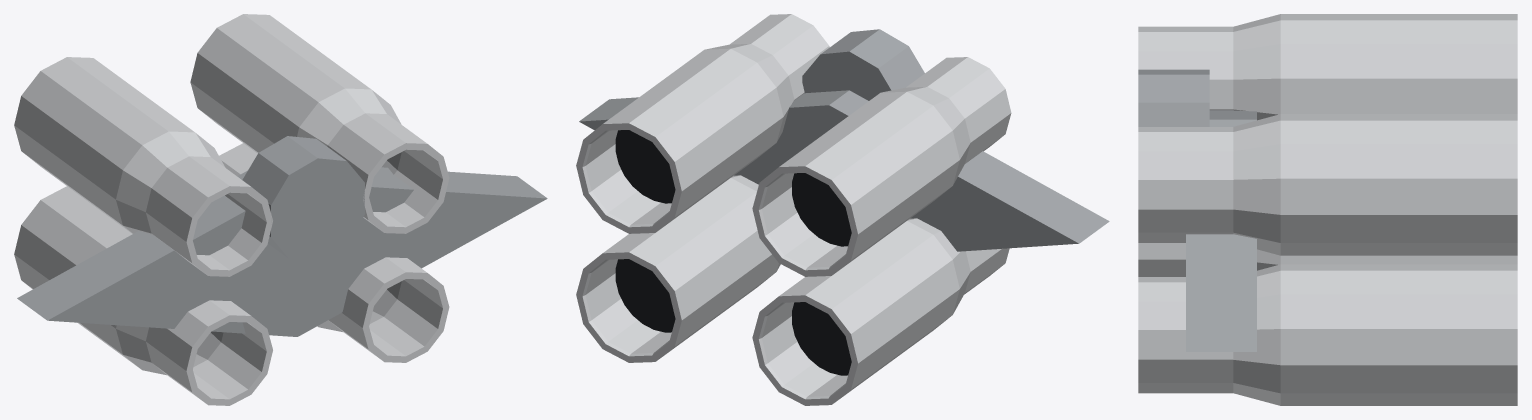
Rendered from catback_quad.glb.
The picture shows the model from 3 angles, left to right: view 1: azimuth 30°, elevation 25°; view 2: azimuth 150°, elevation 25°; view 3: azimuth 270°, elevation 25°; orthographic projection. The views are drawn at different scales.
Parts seen in each view (by area): view 1: model; view 2: model; view 3: model.
Boxes of the visible parts, box(x1,y1,x2,y2) form: model: box(14, 14, 547, 405); model: box(576, 14, 1109, 405); model: box(1138, 14, 1517, 405).
Bounding box in the file's own units: 0.284 × 0.13 × 0.16.
3 materials, 1 textured.
